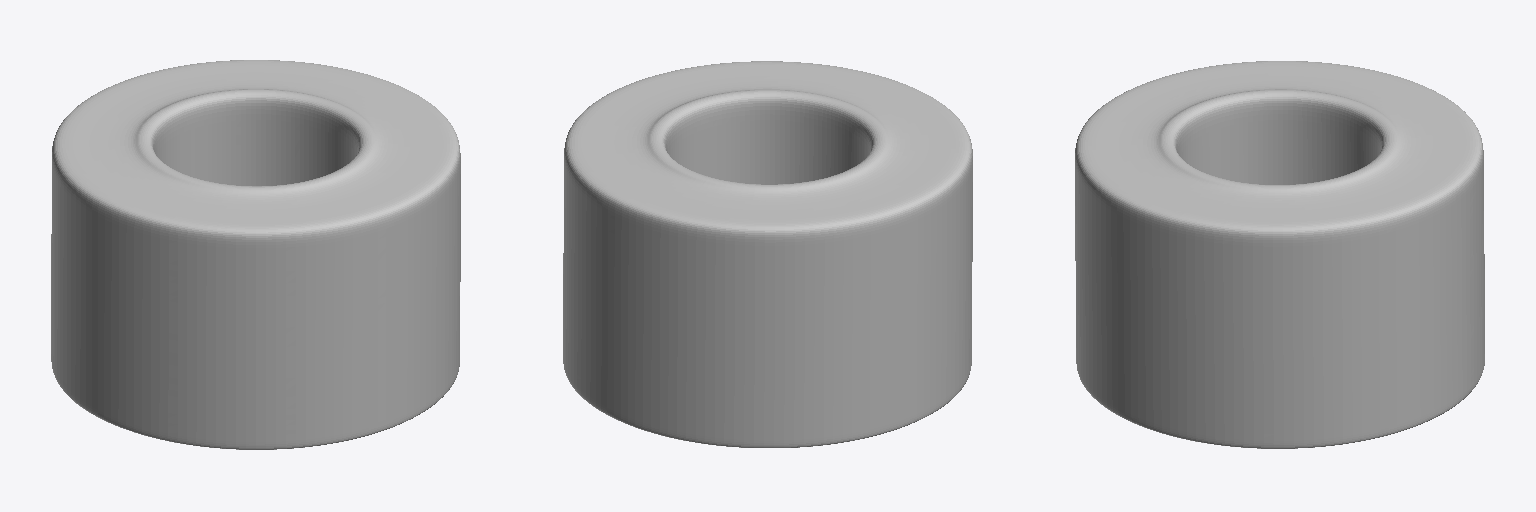
Rendered from cinta.obj.
The picture shows the model from 3 angles: view 1: azimuth 30°, elevation 25°; view 2: azimuth 150°, elevation 25°; view 3: azimuth 270°, elevation 25°; orthographic projection.
Parts seen in each view (by area): view 1: Cinta; view 2: Cinta; view 3: Cinta.
Part boxes in pixels (x1,y1,x2,y2): Cinta: (51,60,460,449); Cinta: (563,61,972,447); Cinta: (1075,61,1484,448).
Size of the model in its own units: 23.93 by 15.19 by 23.99.